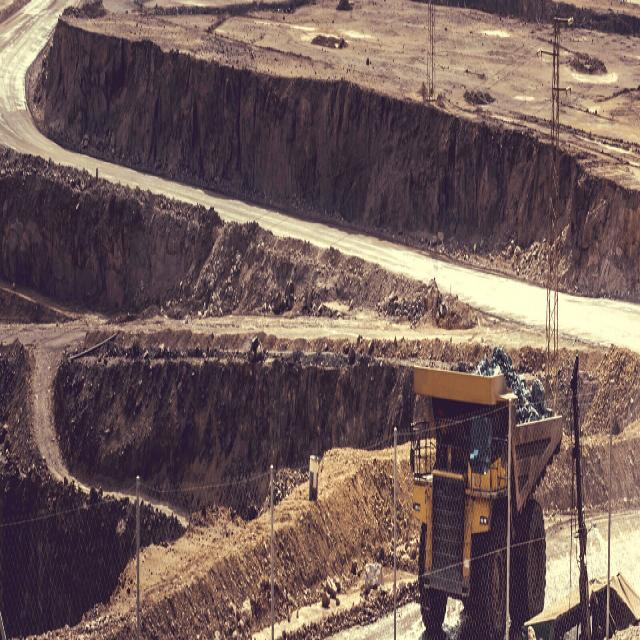dump_truck: (405, 341, 553, 625)
